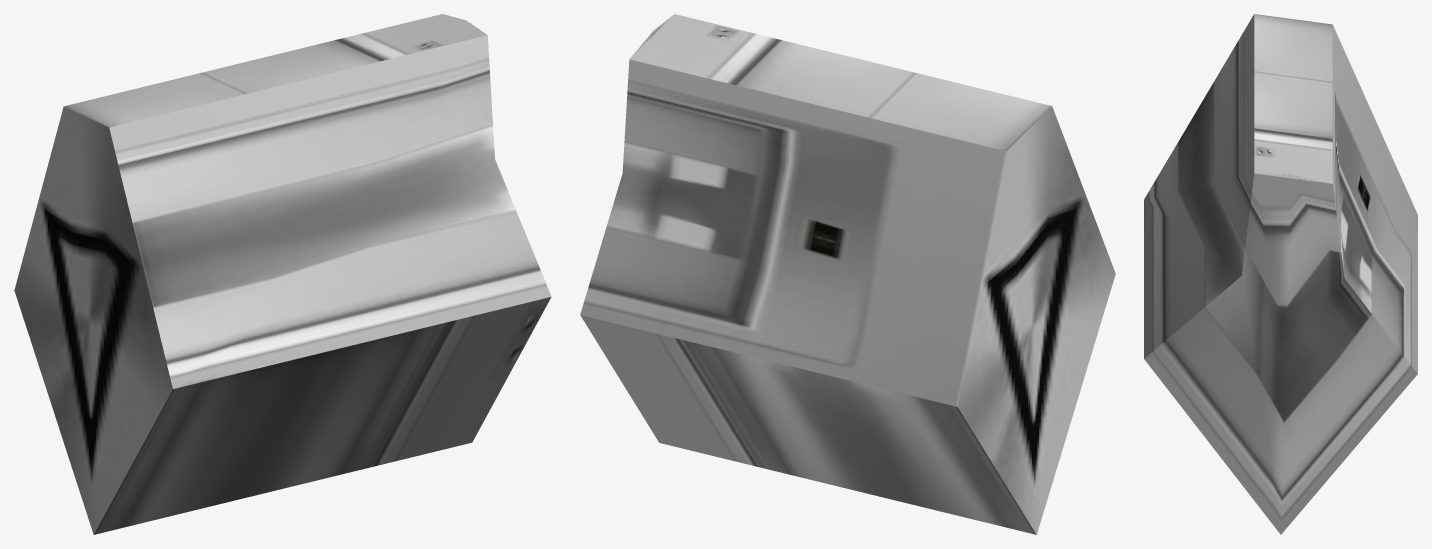
File: hissidown.gltf
3 renders of one model, left to right at view 1: azimuth 30°, elevation 25°; view 2: azimuth 150°, elevation 25°; view 3: azimuth 270°, elevation 25°, orthographic. The views are drawn at different scales.
Parts seen in each view (by area): view 1: hissidown; view 2: hissidown; view 3: hissidown.
Boxes of the visible parts, <box> form: hissidown: <box>14,14,551,534</box>; hissidown: <box>580,14,1115,534</box>; hissidown: <box>1144,14,1417,534</box>.
Bounding box in the file's own units: 0.0968 × 0.1023 × 0.0703.
2 materials, 2 textured.
